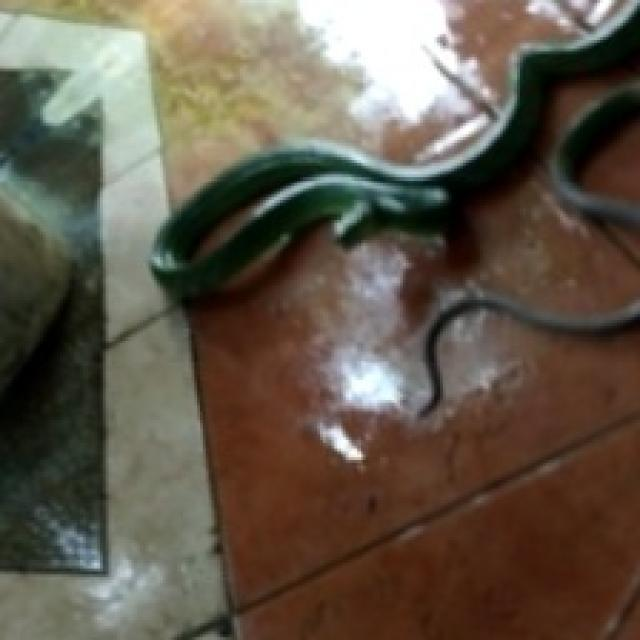red-tailed green ratsnake: (151, 0, 637, 300)
